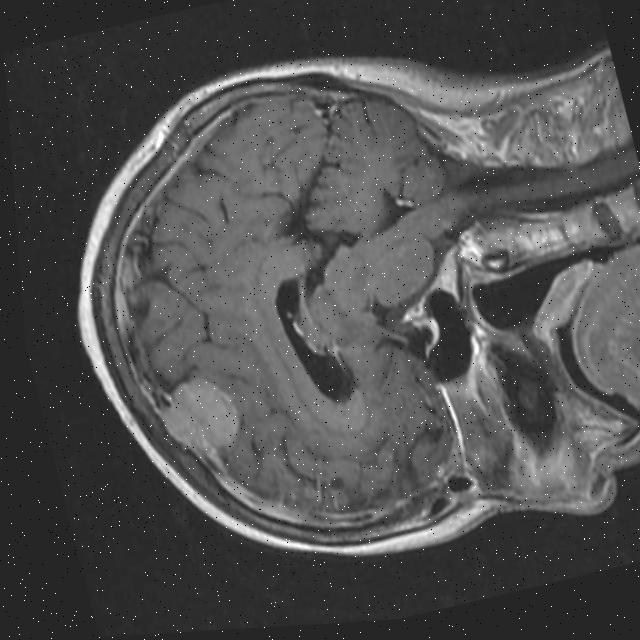Meningioma: (149, 366, 249, 462)
